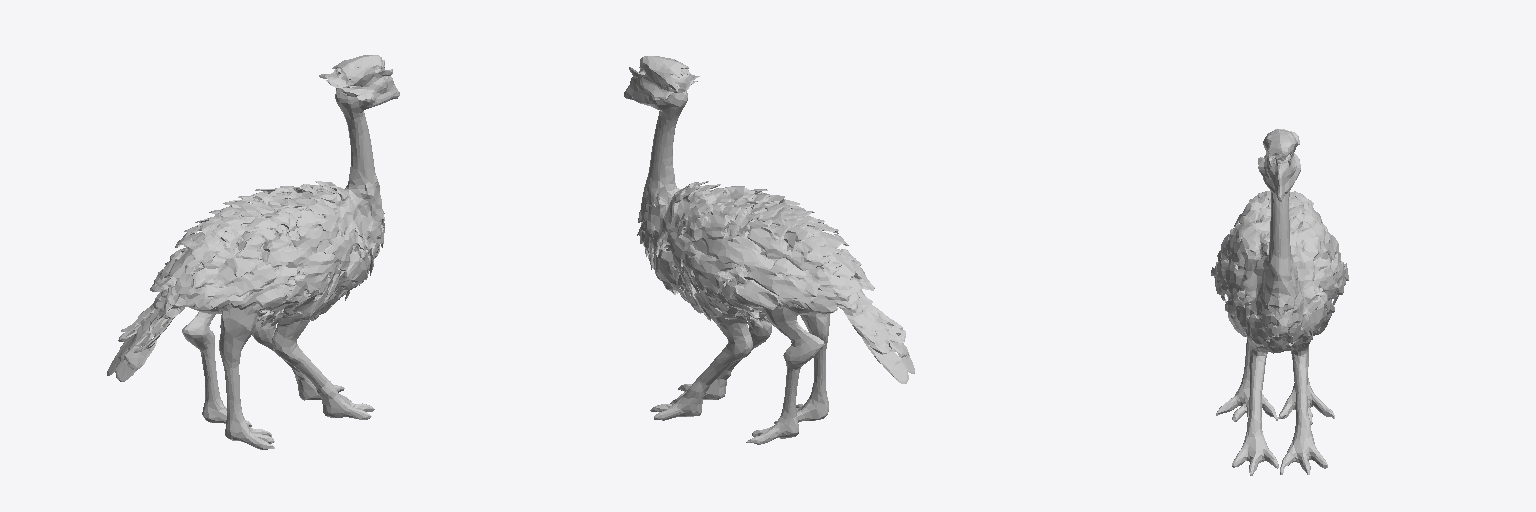
File: Moa.obj
3 renders of one model, left to right at view 1: azimuth 30°, elevation 25°; view 2: azimuth 150°, elevation 25°; view 3: azimuth 270°, elevation 25°, orthographic.
Visible parts, largest first — view 1: Mesh_0; view 2: Mesh_0; view 3: Mesh_0.
Part boxes in pixels (x1,y1,x2,y2): Mesh_0: (107, 55, 399, 449); Mesh_0: (624, 56, 914, 444); Mesh_0: (1211, 129, 1348, 475).
Bounding box in the file's own units: 1.75 × 2.01 × 0.7279.